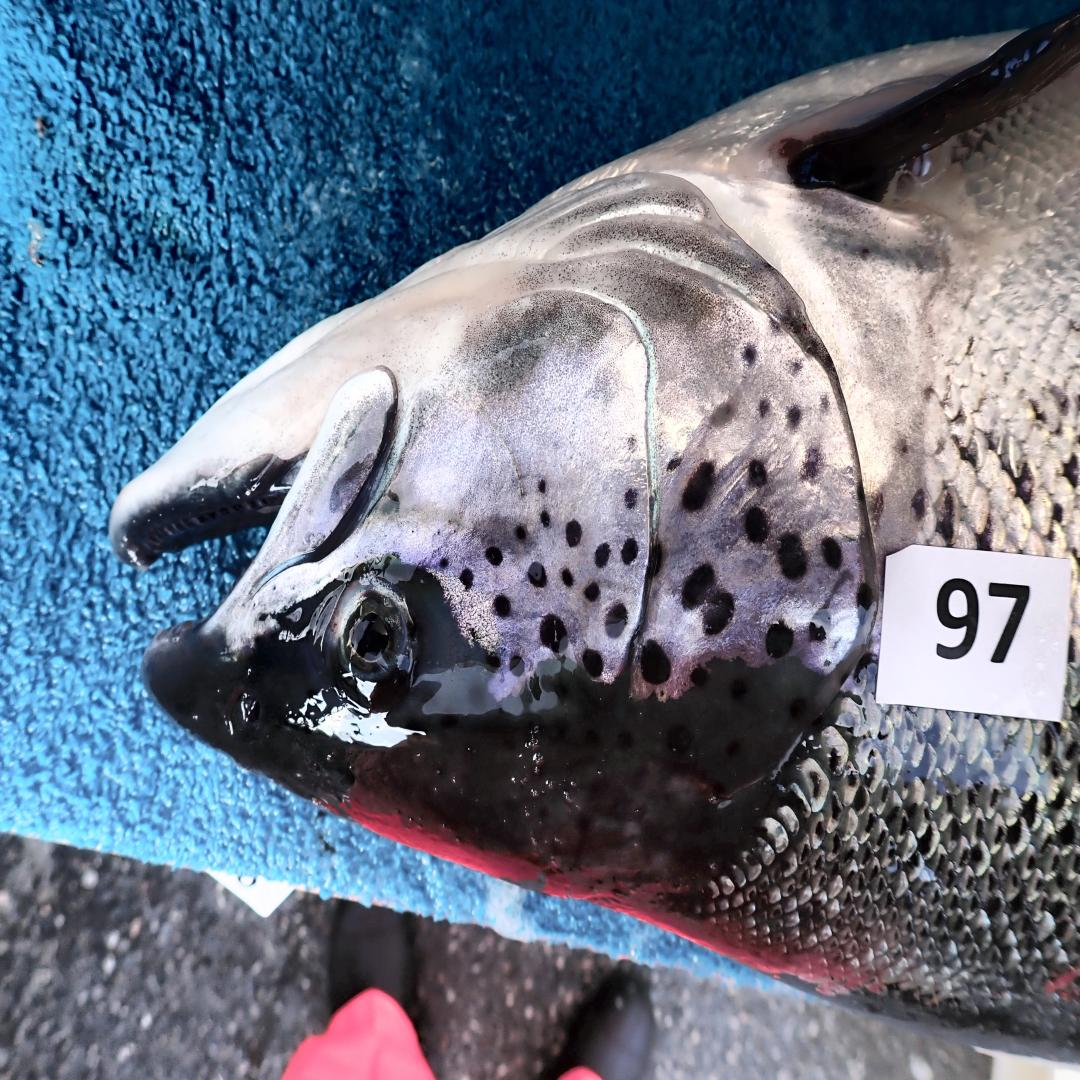spot: (681, 461, 715, 512), (681, 562, 715, 610), (776, 532, 808, 579), (702, 591, 734, 636), (639, 641, 671, 683), (540, 613, 567, 652), (766, 622, 793, 658), (745, 506, 770, 543), (605, 602, 629, 638), (711, 399, 736, 428), (802, 447, 823, 481), (856, 582, 873, 624), (808, 610, 831, 641), (823, 537, 842, 568), (582, 650, 603, 678), (375, 492, 399, 515), (749, 458, 768, 487), (648, 540, 662, 579), (527, 562, 546, 588), (620, 537, 637, 565), (565, 520, 582, 546), (740, 343, 757, 368), (690, 667, 711, 686), (508, 655, 525, 678), (595, 543, 610, 568), (787, 405, 802, 430), (460, 568, 475, 591), (485, 546, 502, 565), (494, 596, 510, 616), (584, 582, 599, 602), (757, 397, 772, 416), (561, 568, 574, 588), (624, 489, 637, 509), (515, 523, 527, 543), (667, 456, 681, 472), (626, 436, 637, 456), (791, 360, 804, 374), (821, 397, 831, 413), (540, 512, 551, 526), (538, 478, 546, 492), (439, 557, 449, 568)
